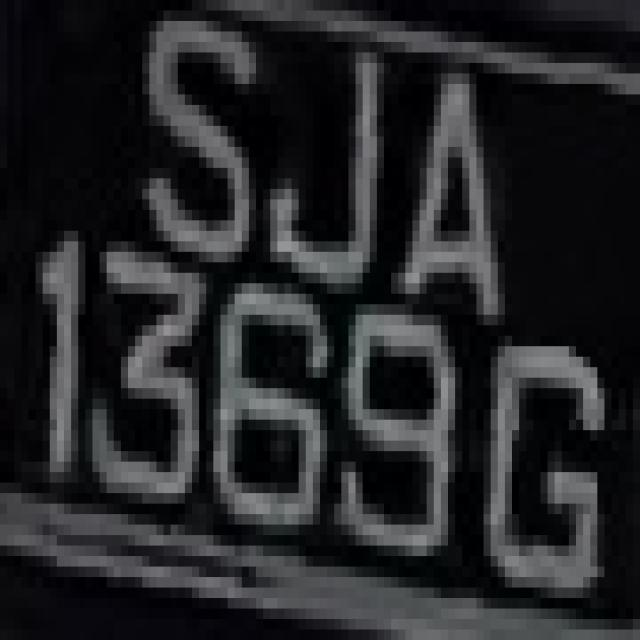1: (36, 220, 92, 504)
3: (85, 231, 199, 504)
6: (199, 283, 334, 577)
9: (334, 283, 470, 588)
A: (384, 42, 526, 346)
G: (484, 294, 618, 640)
J: (249, 31, 398, 315)
S: (128, 0, 263, 283)
